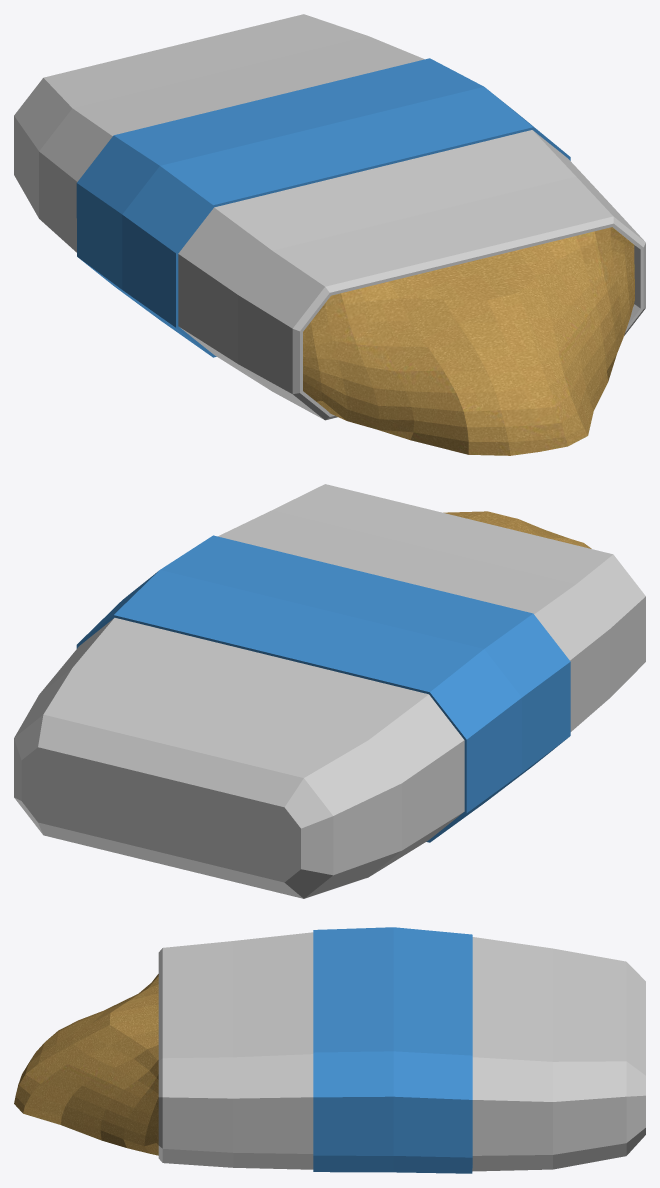
The model's file is sand.glb.
3 views of the same model, one above another, from view 1: azimuth 30°, elevation 25°; view 2: azimuth 150°, elevation 25°; view 3: azimuth 270°, elevation 25° (orthographic). The views are drawn at different scales.
Parts seen in each view (by area): view 1: bag, sand; view 2: bag, sand; view 3: bag, sand.
Part boxes in pixels (left/top/right/bottom): bag: left=14, top=14, right=645, bottom=420; sand: left=303, top=227, right=634, bottom=455; bag: left=14, top=484, right=645, bottom=898; sand: left=443, top=511, right=591, bottom=548; bag: left=158, top=927, right=645, bottom=1173; sand: left=14, top=974, right=158, bottom=1155.
Bounding box in the file's own units: 1.83 × 0.6928 × 3.2.
3 materials, 1 textured.
